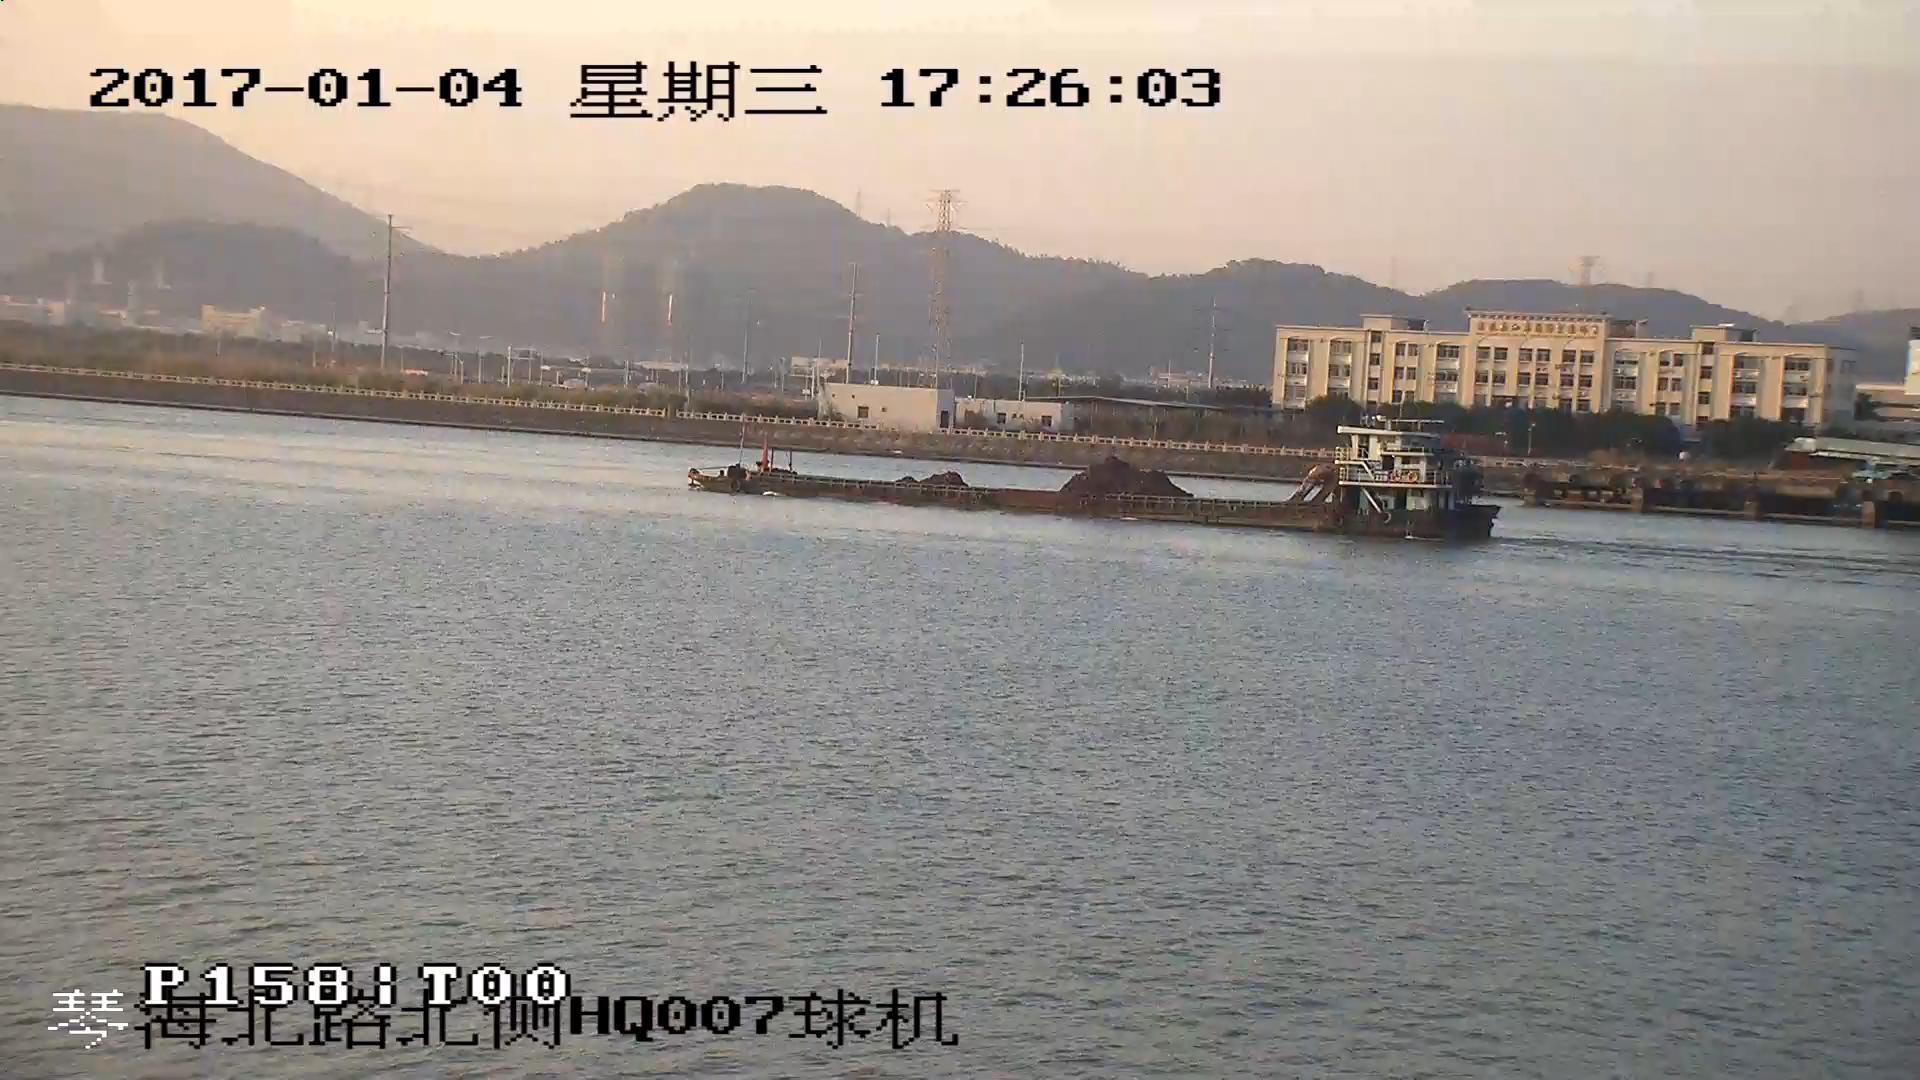ore carrier: (689, 423, 1498, 541)
